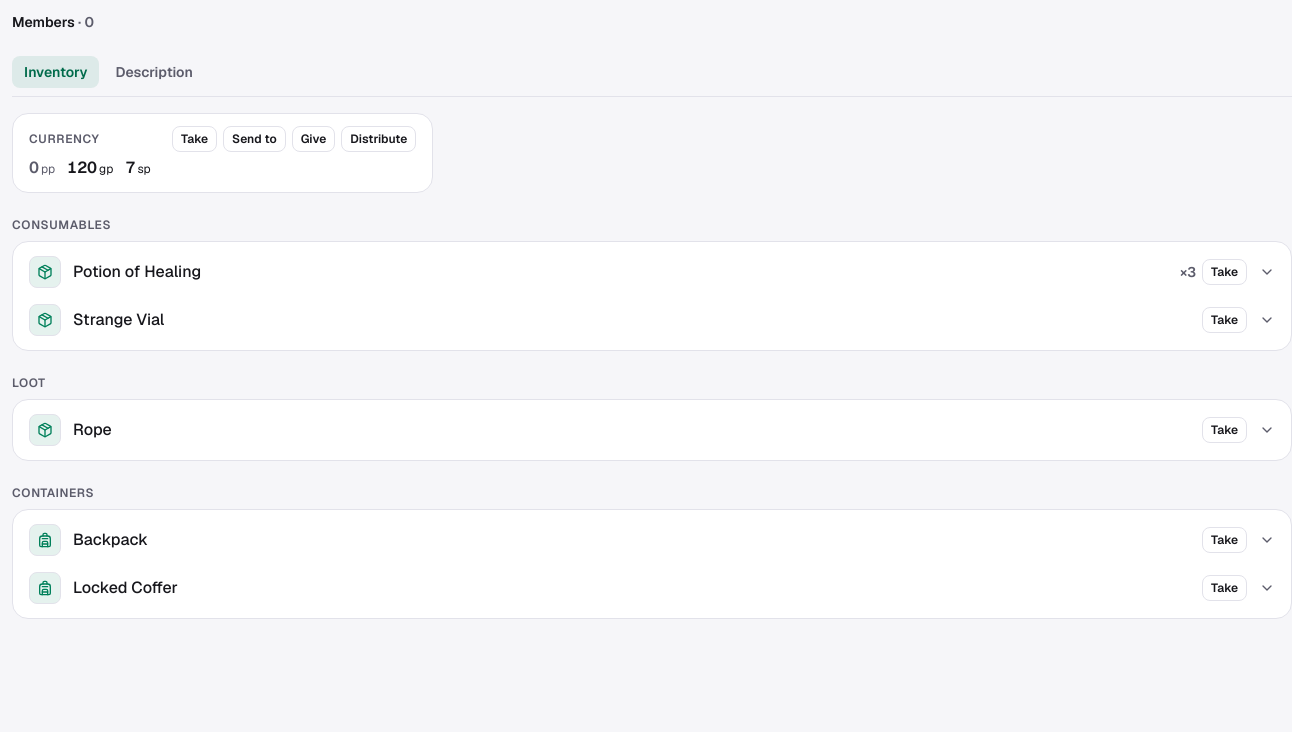
Test: components/party-sheet, favorites, from module 0.37.0 › offers no favorites entry on its items, even inside a pane that offers them, as a party has none
Right-click the heading "Rope Take": (45, 430) [19,406,1285,454]
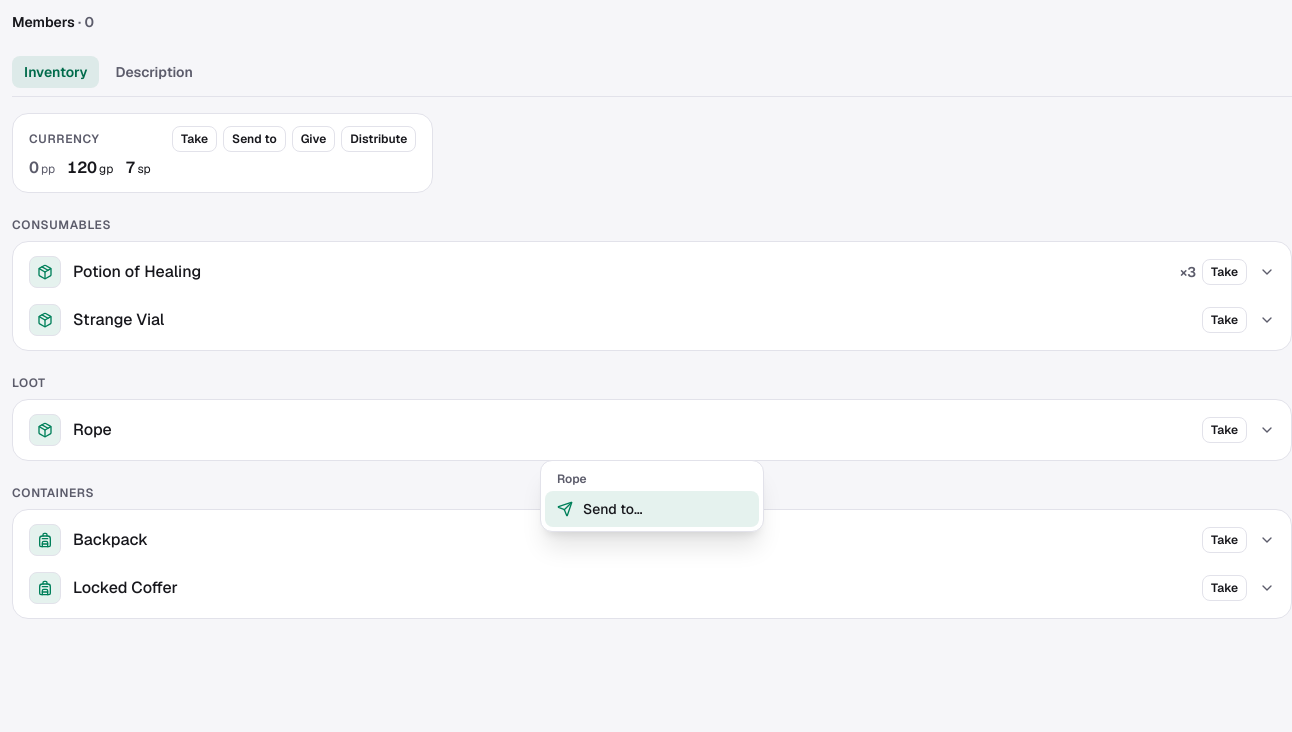
Check: the menu items read "Send to…", in this order, box [545,491,759,527]
